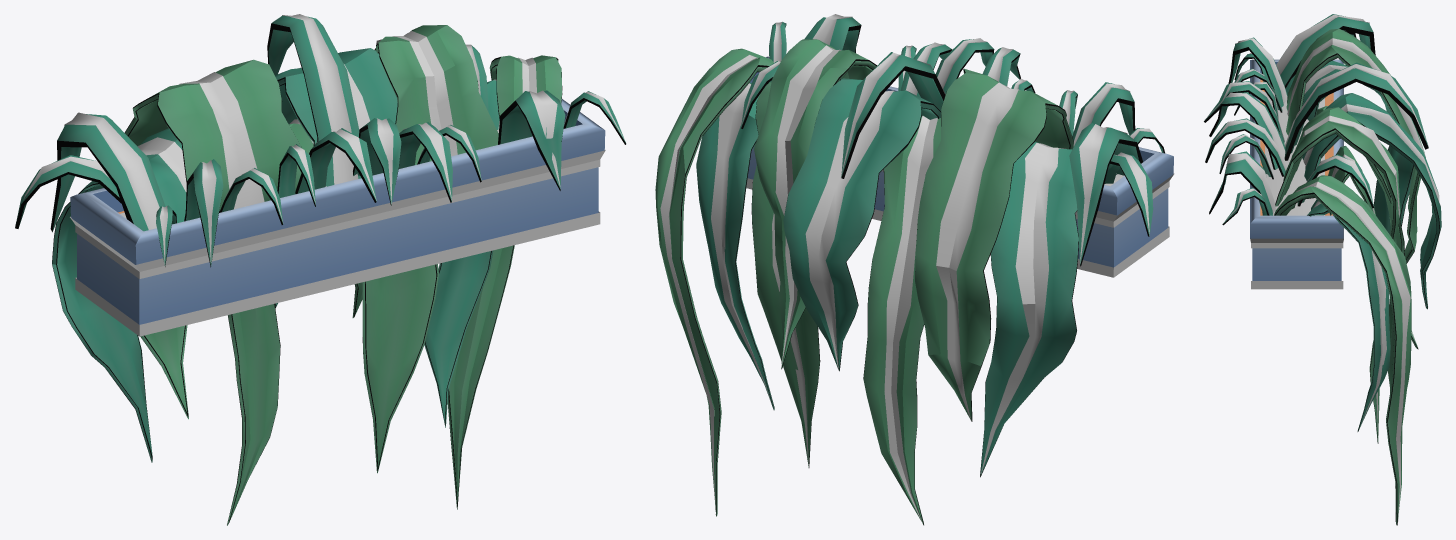
Rendered from Rooms_Paradise_LargeFlowerPot_02_Art.fbx.
3 renders of one model, left to right at view 1: azimuth 30°, elevation 25°; view 2: azimuth 150°, elevation 25°; view 3: azimuth 270°, elevation 25°, orthographic. The views are drawn at different scales.
Visible parts, largest first — view 1: Rooms_Paradise_LargeFlowerPot_02_sheets, Rooms_Paradise_LargeFlowerPot_02_Art, Rooms_Paradise_LargeFlowerPot_02_Shadows; view 2: Rooms_Paradise_LargeFlowerPot_02_sheets, Rooms_Paradise_LargeFlowerPot_02_Art, Rooms_Paradise_LargeFlowerPot_02_Shadows; view 3: Rooms_Paradise_LargeFlowerPot_02_sheets, Rooms_Paradise_LargeFlowerPot_02_Art, Rooms_Paradise_LargeFlowerPot_02_Shadows.
Part boxes in pixels (left/top/right/bottom): Rooms_Paradise_LargeFlowerPot_02_sheets: left=15, top=14, right=626, bottom=525; Rooms_Paradise_LargeFlowerPot_02_Art: left=70, top=99, right=605, bottom=324; Rooms_Paradise_LargeFlowerPot_02_Shadows: left=70, top=130, right=605, bottom=336; Rooms_Paradise_LargeFlowerPot_02_sheets: left=655, top=14, right=1164, bottom=525; Rooms_Paradise_LargeFlowerPot_02_Art: left=747, top=56, right=1173, bottom=267; Rooms_Paradise_LargeFlowerPot_02_Shadows: left=746, top=169, right=1174, bottom=277; Rooms_Paradise_LargeFlowerPot_02_sheets: left=1204, top=14, right=1441, bottom=525; Rooms_Paradise_LargeFlowerPot_02_Art: left=1250, top=59, right=1343, bottom=280; Rooms_Paradise_LargeFlowerPot_02_Shadows: left=1250, top=88, right=1343, bottom=289.
Bounding box in the file's own units: 403 × 393 × 213.
